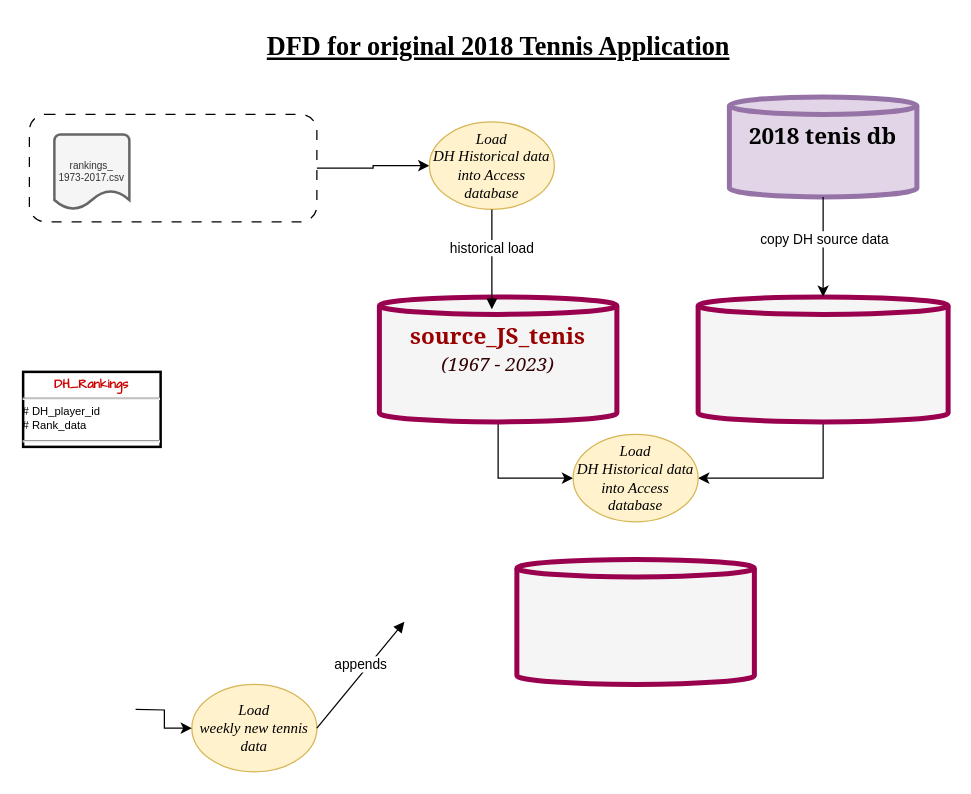
Image size: 971x794. Some labels were removed from this diagram. Here are the shapes that lost their labels. From the top down, the box of each, then its label:
(28, 113, 317, 222): JS source files
(695, 294, 950, 424): source_DH_tenis (1880 - 2018)
(514, 556, 756, 686): tenis_main (1880 - 2024)
